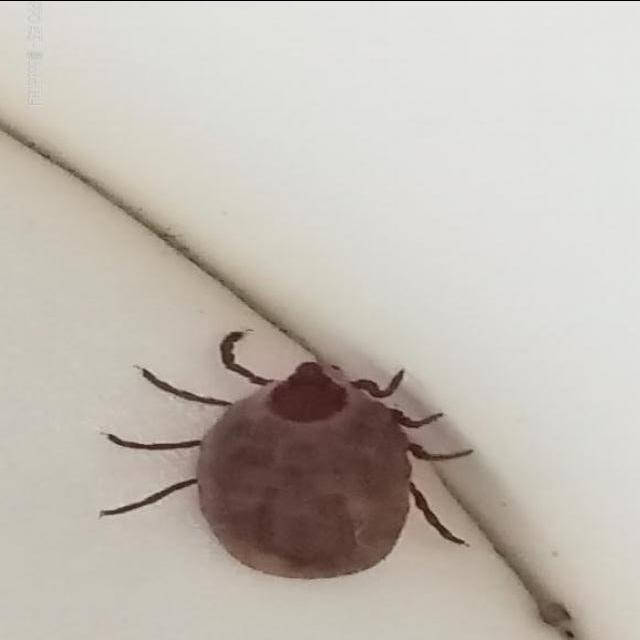Rhipicephalus Sanguineus-F-Fed: (97, 329, 473, 579)
